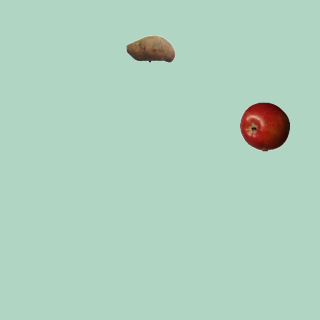Apple Braeburn: (239, 101, 289, 151)
Potato Sweet: (125, 23, 175, 73)
